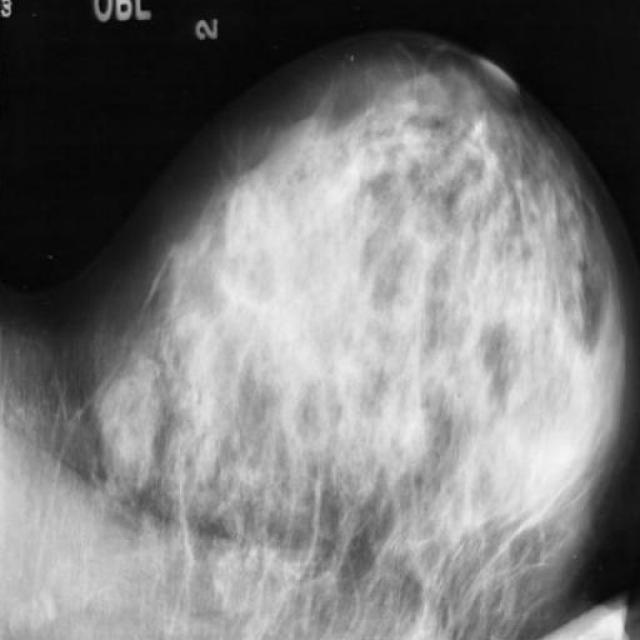cancer: (456, 84, 504, 165)
